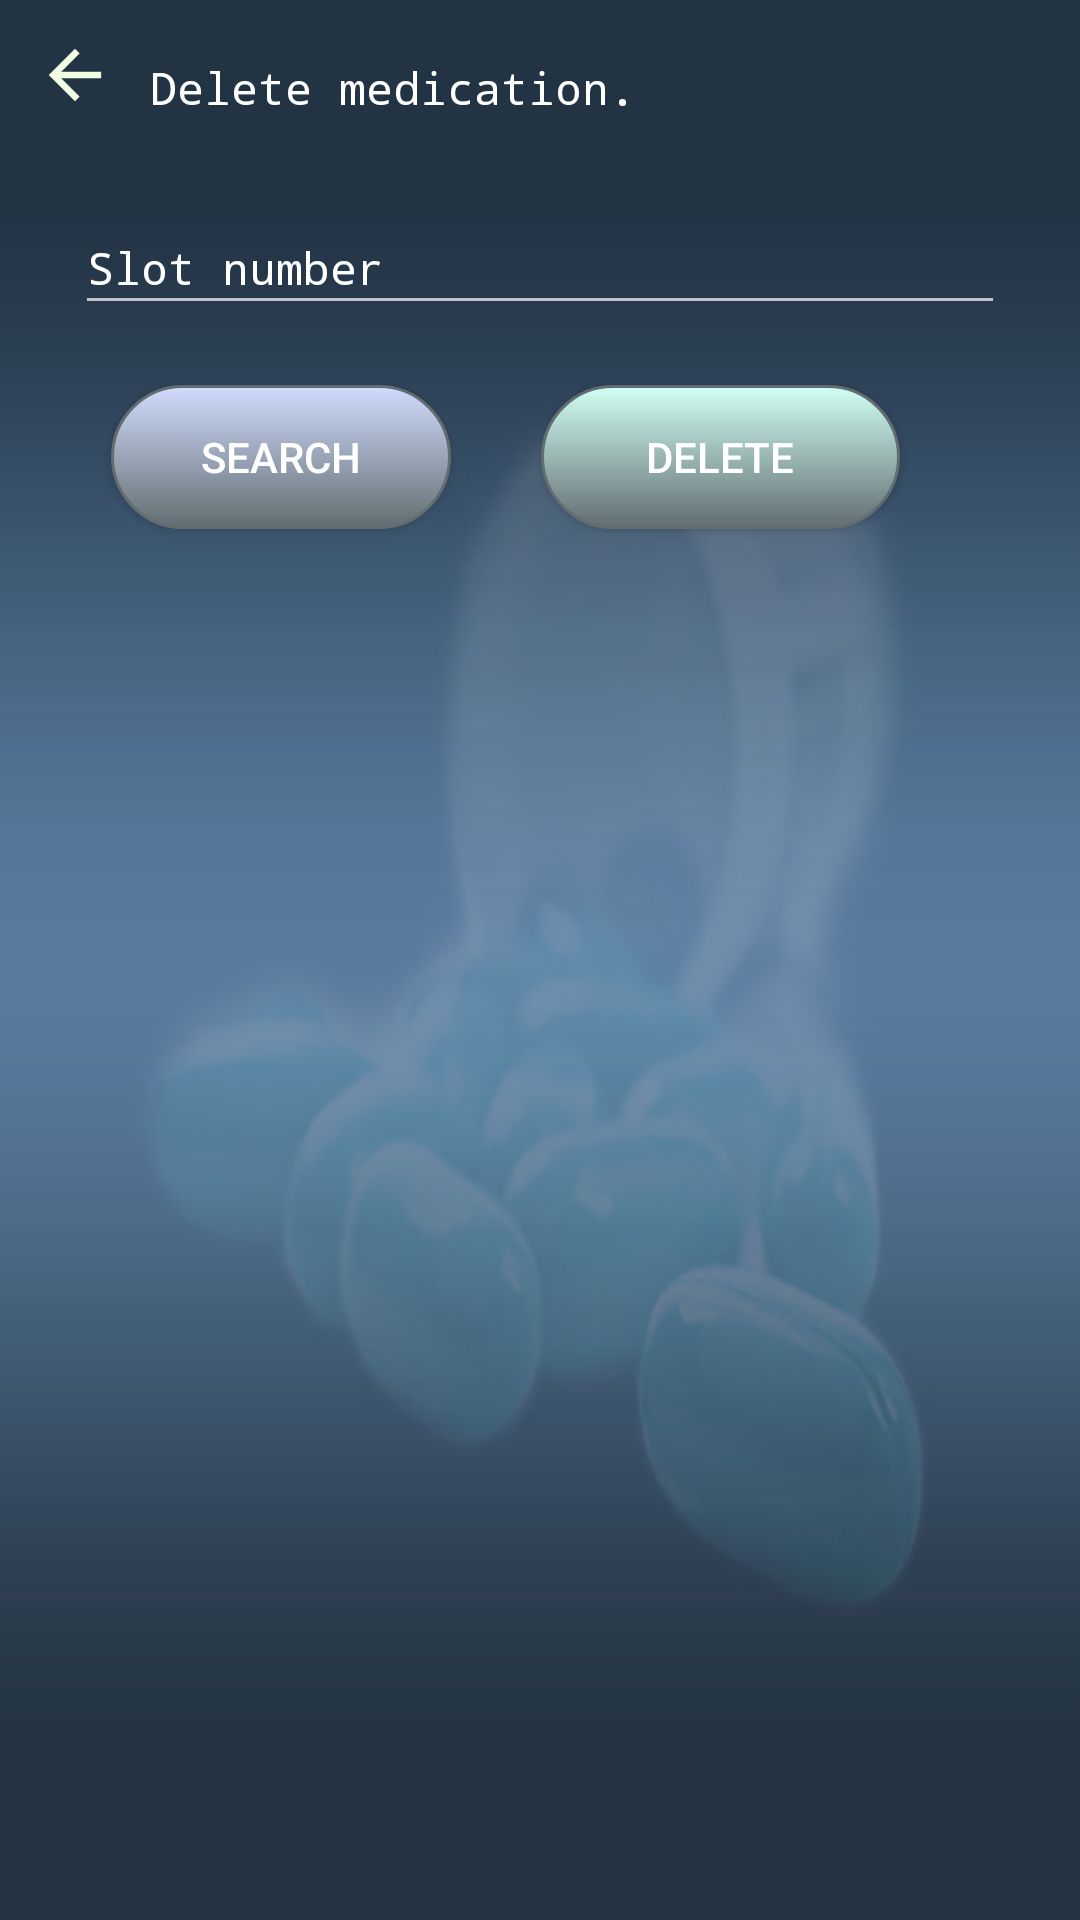

Where icons sit on this 1080x1920 app screen, as rect(x1, y1, x2, y2):
arrow back: rect(49, 49, 102, 101)
